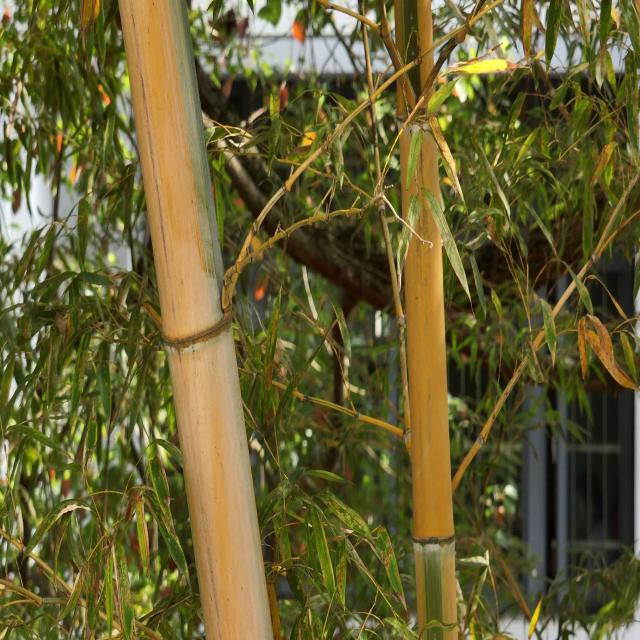Bamboo-shoots: (121, 0, 273, 640), (396, 0, 462, 640)
